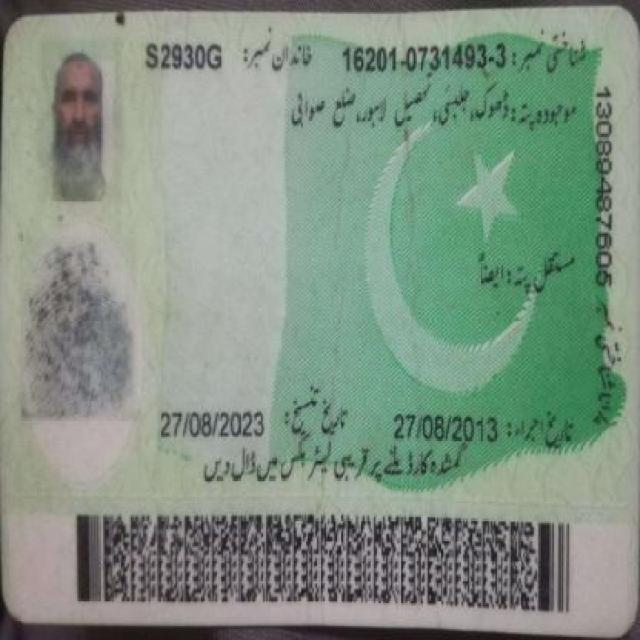Back: (5, 12, 629, 631)
